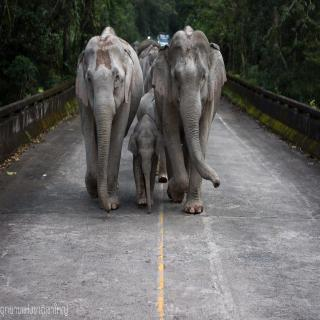Elephant: (150, 19, 232, 222), (73, 18, 145, 219), (127, 111, 166, 224)
